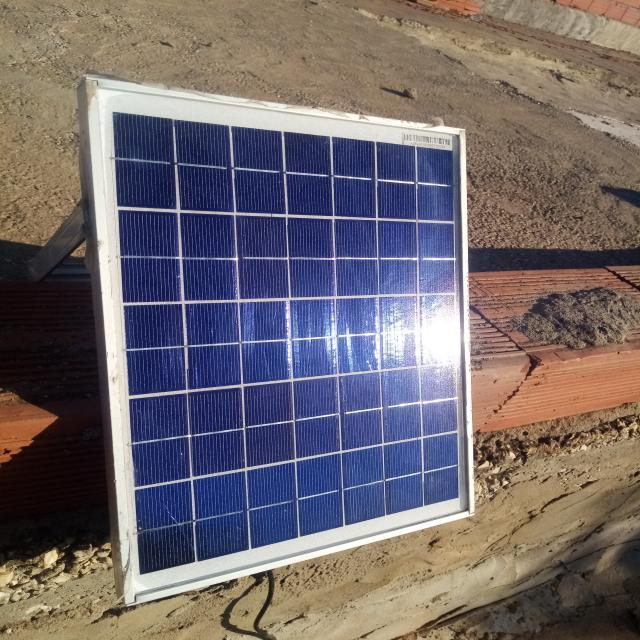no faulty: (90, 78, 478, 600)
